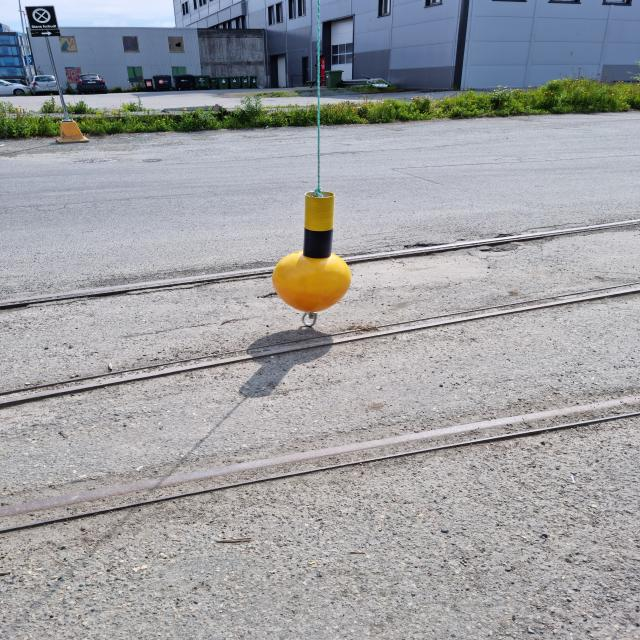west: (272, 192, 354, 312)
